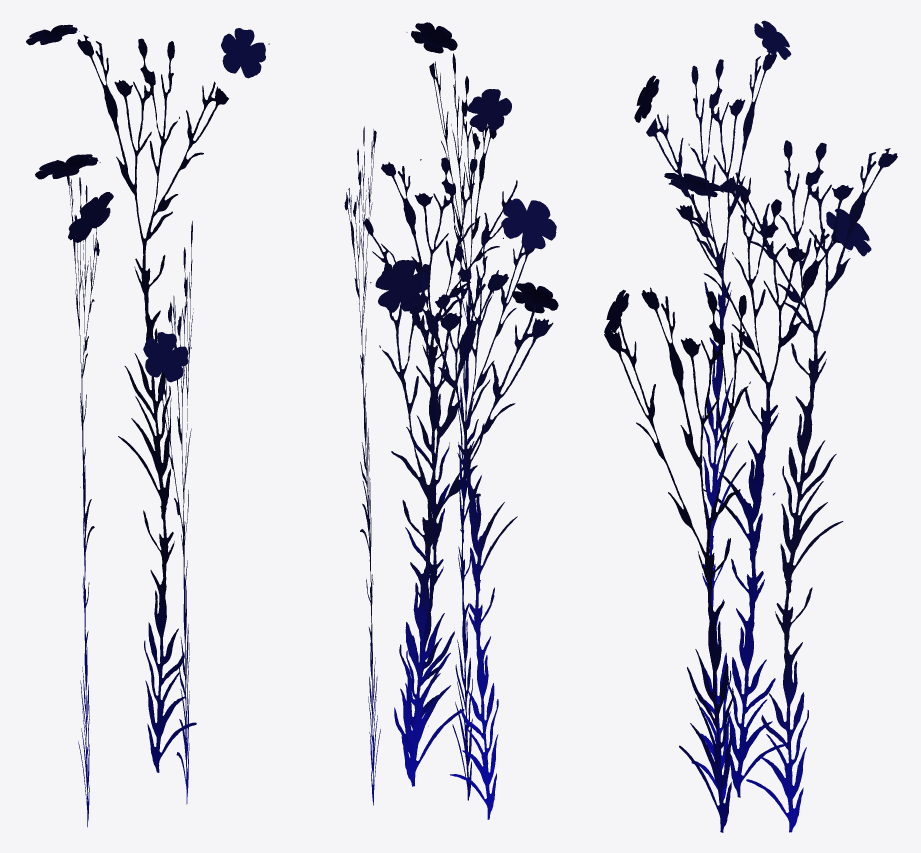
File: SM_Foliage_FlaxA_04.fbx
3 renders of one model, left to right at view 1: azimuth 30°, elevation 25°; view 2: azimuth 150°, elevation 25°; view 3: azimuth 270°, elevation 25°, orthographic. The views are drawn at different scales.
Parts seen in each view (by area): view 1: SM_Foliage_FlaxA_04; view 2: SM_Foliage_FlaxA_04; view 3: SM_Foliage_FlaxA_04.
Part boxes in pixels (x1,y1,x2,y2): SM_Foliage_FlaxA_04: (26, 24, 269, 827); SM_Foliage_FlaxA_04: (344, 22, 558, 819); SM_Foliage_FlaxA_04: (604, 20, 897, 832).
Size of the model in its own units: 32.92 by 39.63 by 109.
